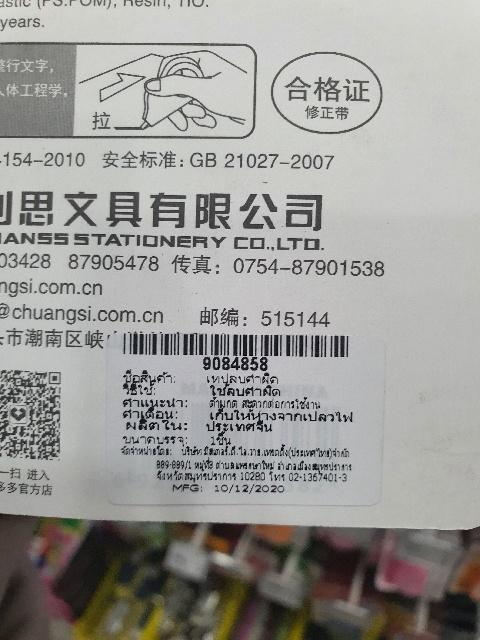Barcode: (116, 326, 362, 374)
